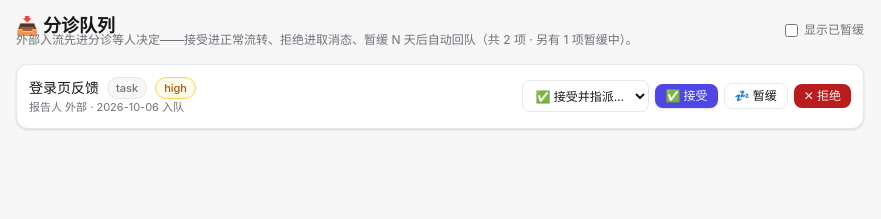
Scenario: TriagePage（M117） › 「显示已暂缓」开关露出暂缓项与回队天数徽标
Expected: the link "登录页反馈" is shown, top-left (29, 78), bottom-right (99, 98)
Click the checkbox labelled "显示已暂缓".
click(792, 30)  # box top-left (785, 24), bottom-right (798, 36)
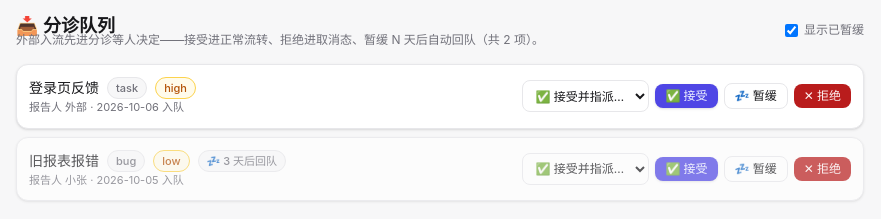
Result: the link "旧报表报错" is shown at top-left (29, 150), bottom-right (99, 170)
Result: the text "💤 3 天后回队" is shown at top-left (198, 150), bottom-right (286, 172)
